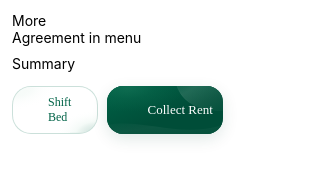
Test: RES-004: preserves Shift Bed and Agreement actions
Click the button "Shift Bed": (55, 110) [12,86,98,134]
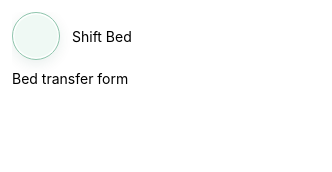
Result: the text "Bed transfer form" is shown at [12,70,132,87]
Click the button named "Back from shift bed": (36, 36) [12,12,60,60]
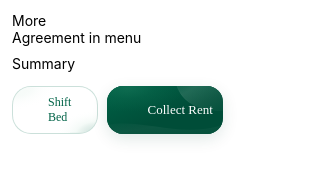
Click the button "Agreement in menu": (118, 38) [12,29,223,46]
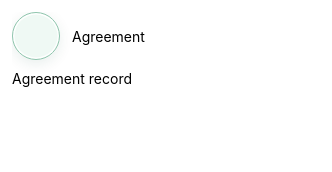
Result: the text "Agreement record" is shown at [12,70,145,87]
